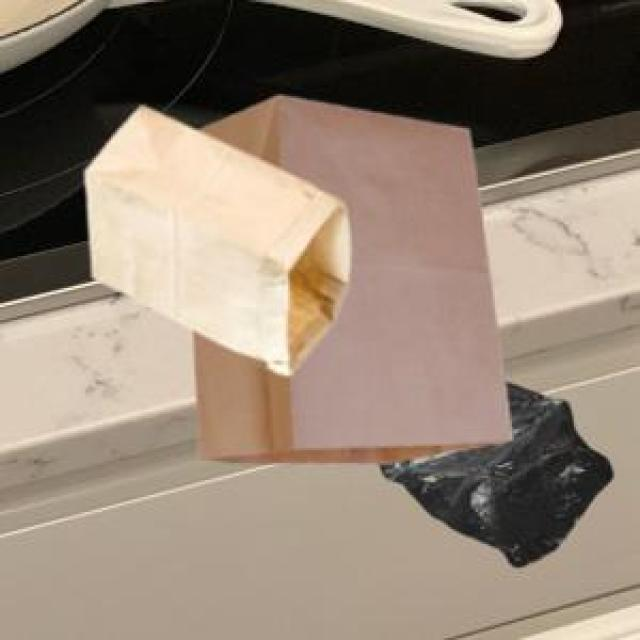paper: (190, 92, 508, 461), (81, 102, 346, 371)
